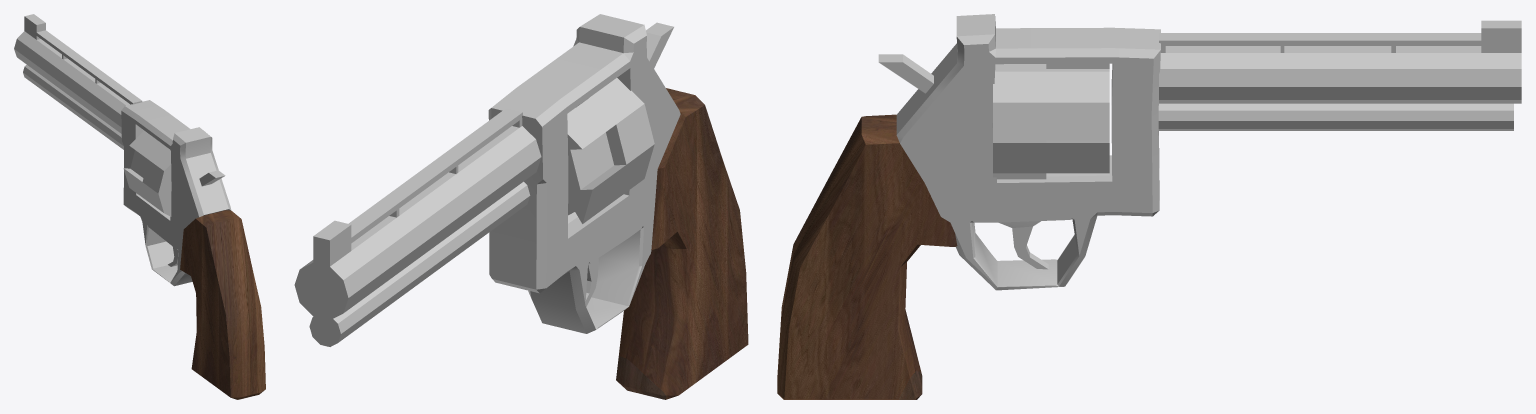
The model's file is magnum.FBX.
3 renders of one model, left to right at view 1: azimuth 30°, elevation 25°; view 2: azimuth 150°, elevation 25°; view 3: azimuth 270°, elevation 25°, orthographic. The views are drawn at different scales.
Parts seen in each view (by area): view 1: Cylinder006; view 2: Cylinder006; view 3: Cylinder006.
Boxes of the visible parts, box(x1,y1,x2,y2) form: Cylinder006: box(14, 14, 265, 399); Cylinder006: box(294, 14, 748, 399); Cylinder006: box(777, 14, 1521, 399).
Bounding box in the file's own units: 16.7 × 58.76 × 108.
